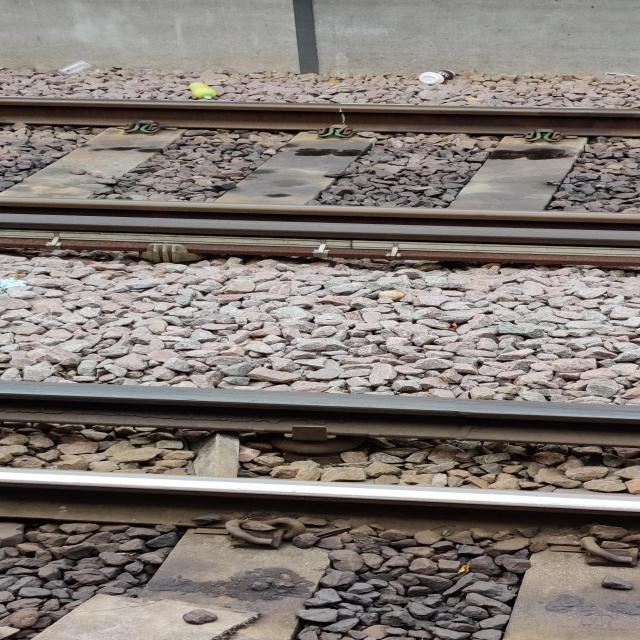litter: (55, 60, 93, 76), (188, 83, 218, 99), (419, 72, 444, 85), (430, 69, 455, 80)
